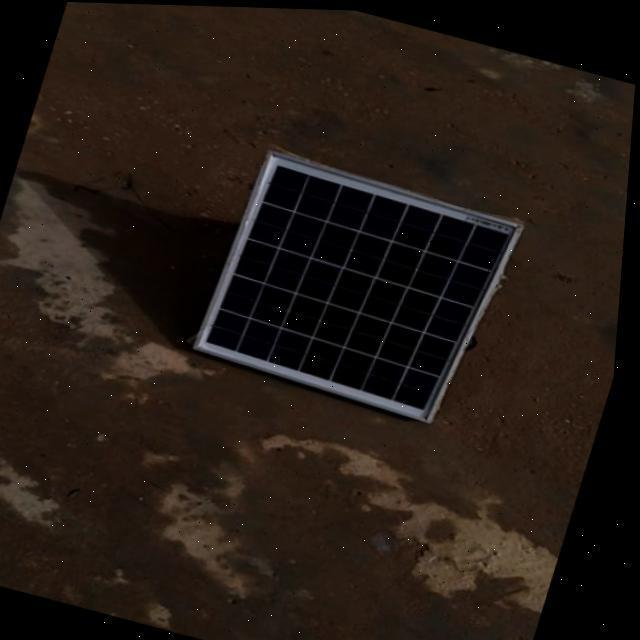Normal Solar Panel: (185, 143, 531, 430)
